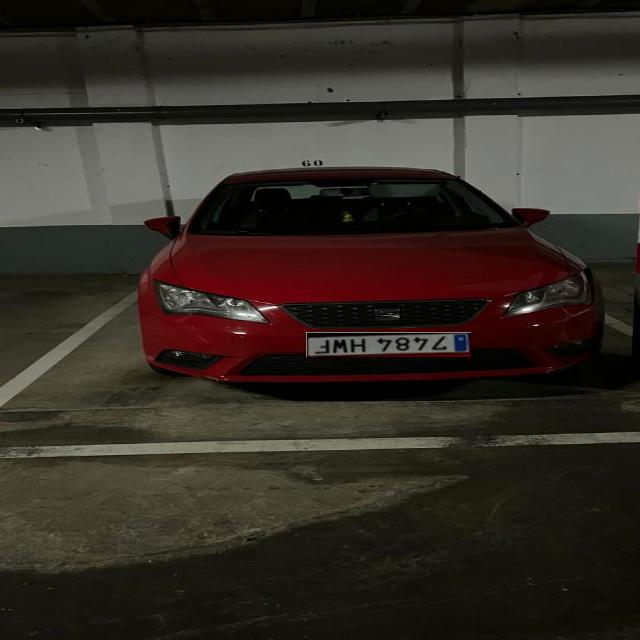License-Plate: (306, 332, 471, 357)
